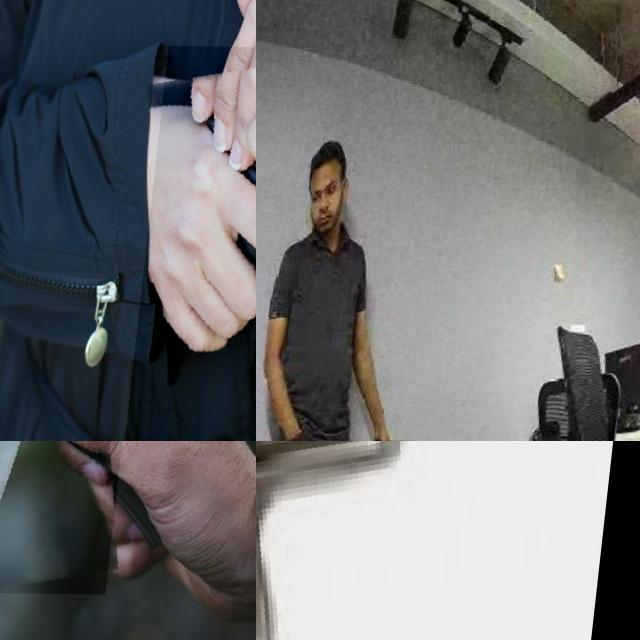-: (0, 441, 141, 594)
gun-knife-thesis - v11 Yolov5 augmented: (256, 441, 640, 640), (137, 45, 256, 441)
